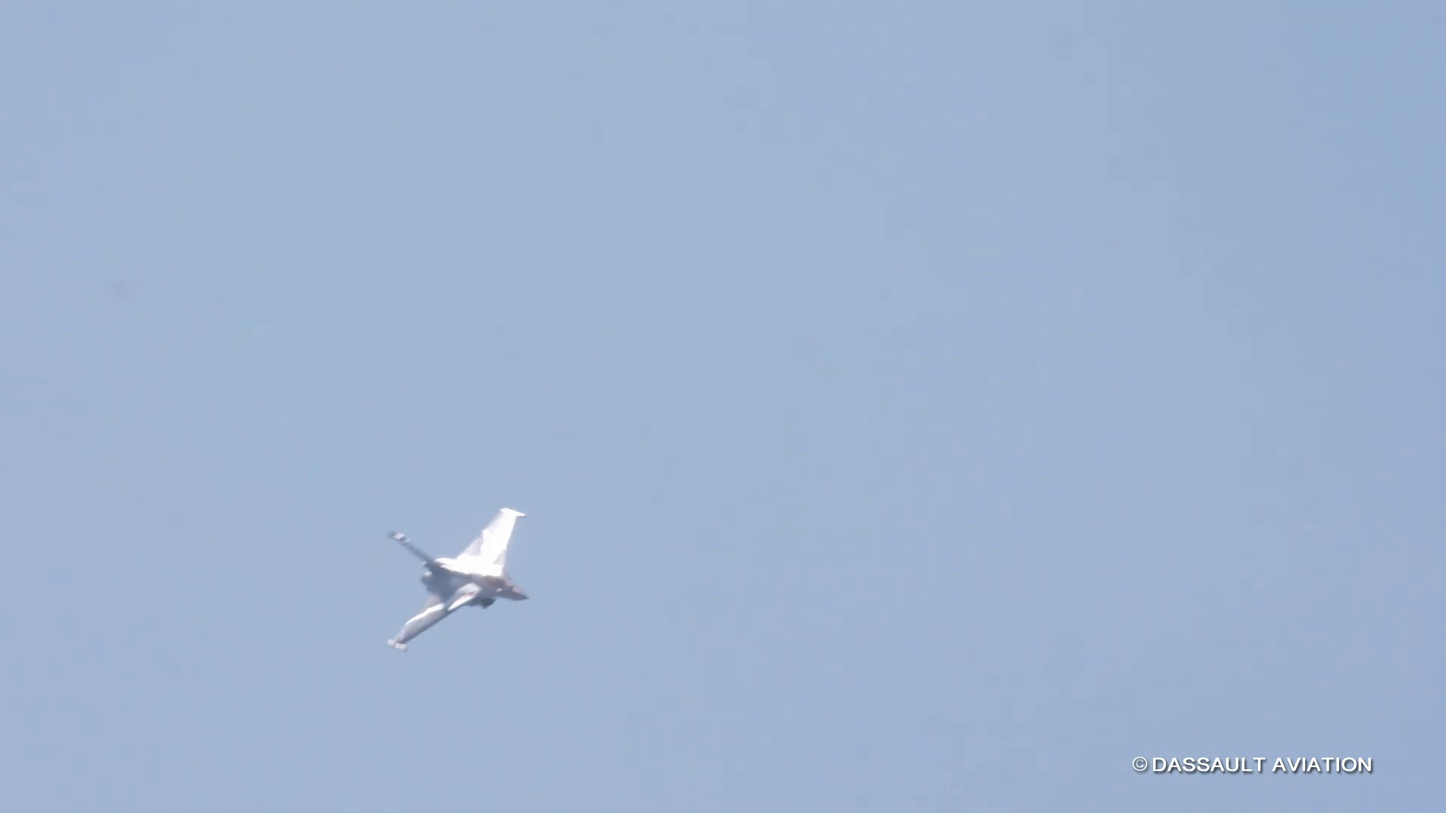Rafale: (380, 502, 534, 652)
